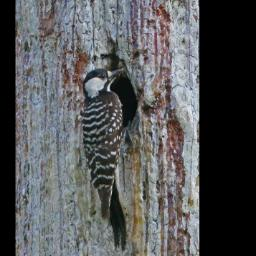Woodpecker: (78, 63, 130, 251)
